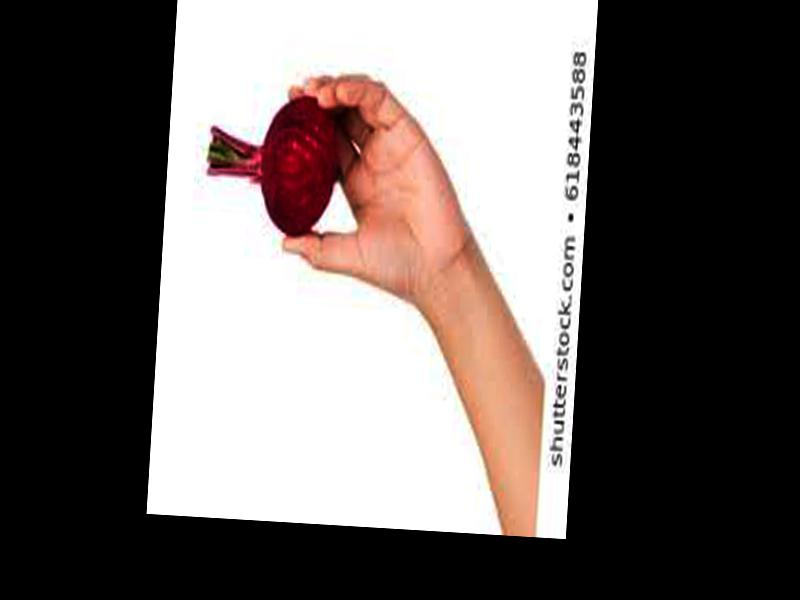Beet: (203, 87, 339, 237)
